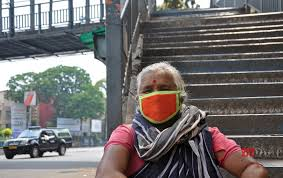mask: (139, 65, 181, 123)
